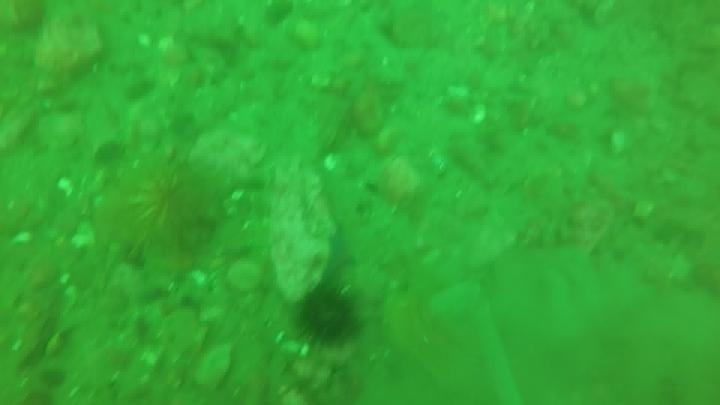echinus: (294, 281, 361, 349)
scallop: (225, 259, 265, 294)
